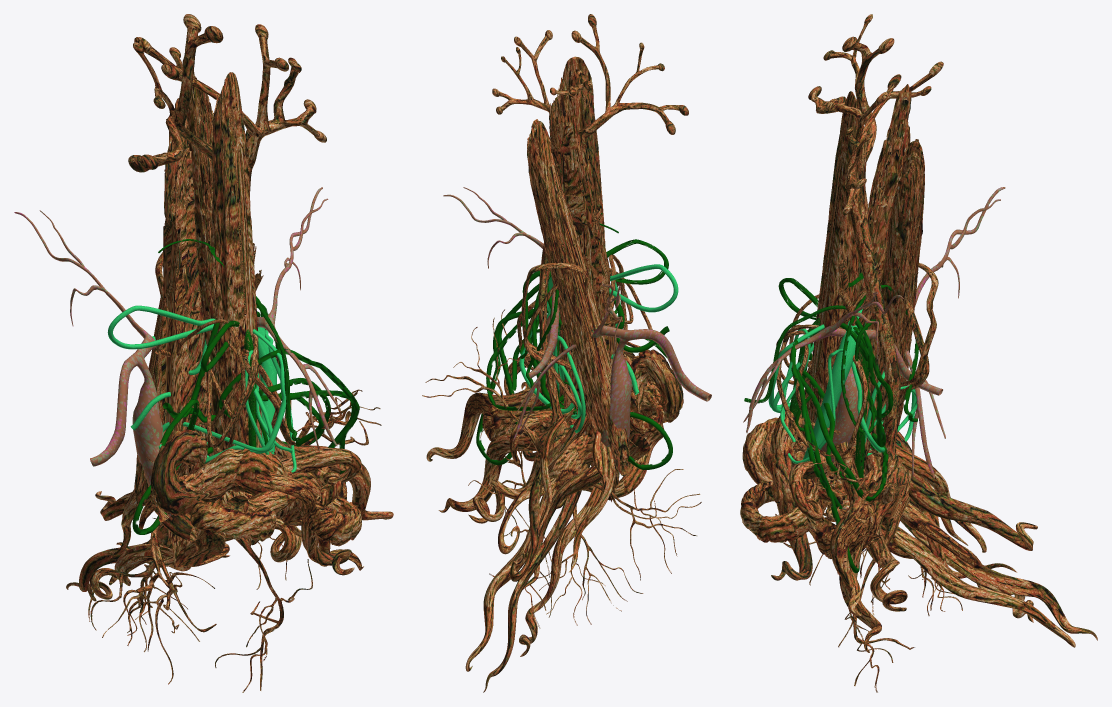
File: templedmredwoodtree.glb
The picture shows the model from 3 angles, left to right: view 1: azimuth 30°, elevation 25°; view 2: azimuth 150°, elevation 25°; view 3: azimuth 270°, elevation 25°; orthographic projection. The views are drawn at different scales.
Parts seen in each view (by area): view 1: neuron_cell_1131_a.005, brambles_flat_brambles.001, a_steak_raw_132.026, plant.014, a_steak_raw_132.028, a_steak_raw_132.024, human_liver_1128_gallbladder.009, plant.013, human_liver_1128_gallbladder.010, jump_rope_246.065, jump_rope_246.052, jump_rope_246.053 (+11 smaller); view 2: plant.013, neuron_cell_1131_a.005, a_steak_raw_132.027, plant.014, a_steak_raw_132.028, brambles_flat_brambles.001, human_liver_1128_gallbladder.009, a_steak_raw_132.026, jump_rope_246.051, jump_rope_246.065, jump_rope_246.053, jump_rope_246.060 (+7 smaller); view 3: neuron_cell_1131_a.005, plant.013, plant.014, a_steak_raw_132.026, brambles_flat_brambles.001, a_steak_raw_132.027, a_steak_raw_132.024, human_liver_1128_gallbladder.010, human_liver_1128_gallbladder.009, jump_rope_246.047, jump_rope_246.051, jump_rope_246.065 (+12 smaller).
Part boxes in pixels (<box>): neuron_cell_1131_a.005: <box>88,14,381,692</box>; brambles_flat_brambles.001: <box>150,429,361,546</box>; a_steak_raw_132.026: <box>212,72,262,449</box>; plant.014: <box>148,437,393,575</box>; a_steak_raw_132.028: <box>161,98,207,559</box>; a_steak_raw_132.024: <box>182,55,225,453</box>; human_liver_1128_gallbladder.009: <box>14,210,171,516</box>; plant.013: <box>66,453,216,601</box>; human_liver_1128_gallbladder.010: <box>257,187,340,450</box>; jump_rope_246.065: <box>218,348,359,483</box>; jump_rope_246.052: <box>152,329,286,466</box>; jump_rope_246.053: <box>107,305,215,444</box>; plant.013: <box>465,408,614,692</box>; neuron_cell_1131_a.005: <box>422,14,701,628</box>; a_steak_raw_132.027: <box>527,119,629,475</box>; plant.014: <box>426,349,663,523</box>; a_steak_raw_132.028: <box>550,115,619,501</box>; brambles_flat_brambles.001: <box>482,349,683,441</box>; human_liver_1128_gallbladder.009: <box>512,283,711,465</box>; a_steak_raw_132.026: <box>562,56,605,246</box>; jump_rope_246.051: <box>521,262,622,408</box>; jump_rope_246.065: <box>476,284,624,465</box>; jump_rope_246.053: <box>519,264,678,413</box>; jump_rope_246.060: <box>522,270,672,469</box>; neuron_cell_1131_a.005: <box>775,14,962,692</box>; plant.013: <box>827,431,1097,647</box>; plant.014: <box>744,420,907,652</box>; a_steak_raw_132.026: <box>804,91,866,482</box>; brambles_flat_brambles.001: <box>740,368,887,558</box>; a_steak_raw_132.027: <box>881,139,924,425</box>; a_steak_raw_132.024: <box>817,84,911,514</box>; human_liver_1128_gallbladder.010: <box>743,292,942,462</box>; human_liver_1128_gallbladder.009: <box>898,187,1005,478</box>; jump_rope_246.047: <box>797,369,888,501</box>; jump_rope_246.051: <box>882,263,938,426</box>; jump_rope_246.065: <box>790,338,859,573</box>.
Bounding box in the file's own units: 0.708 × 1.5 × 0.7638.
Materials: 6 (6 with a texture image).
